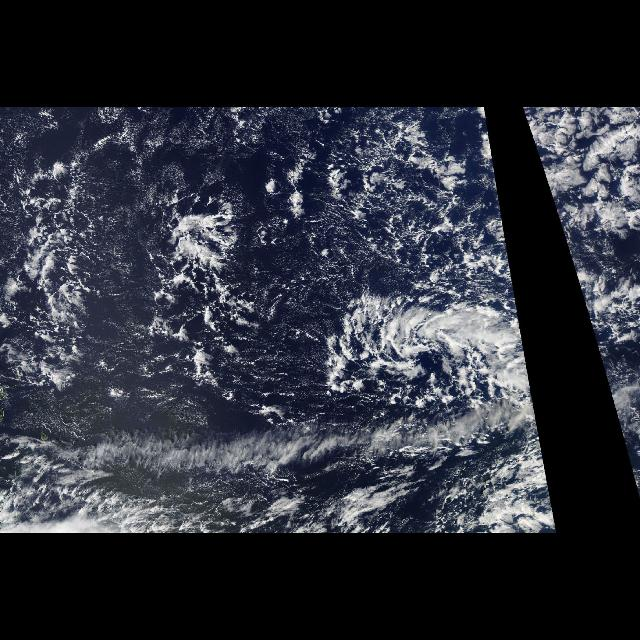Fish: (298, 279, 538, 416)
Gravel: (18, 168, 250, 414)
